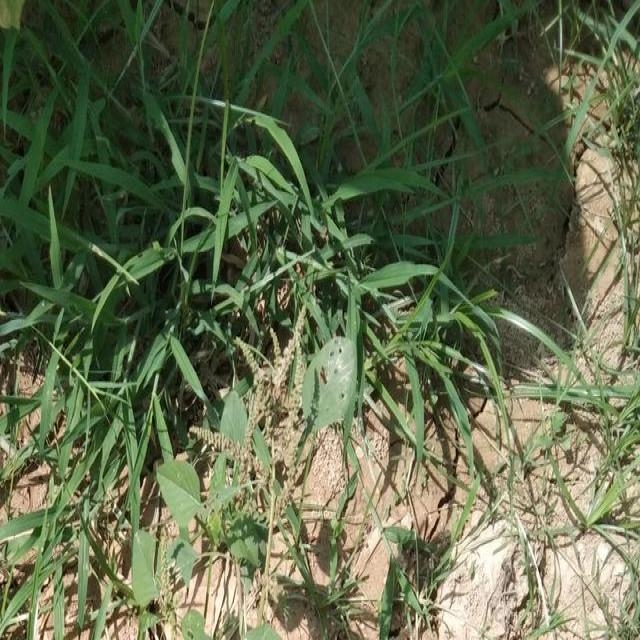weed: (0, 22, 503, 408), (21, 430, 150, 627), (518, 309, 640, 449), (162, 452, 262, 595)
